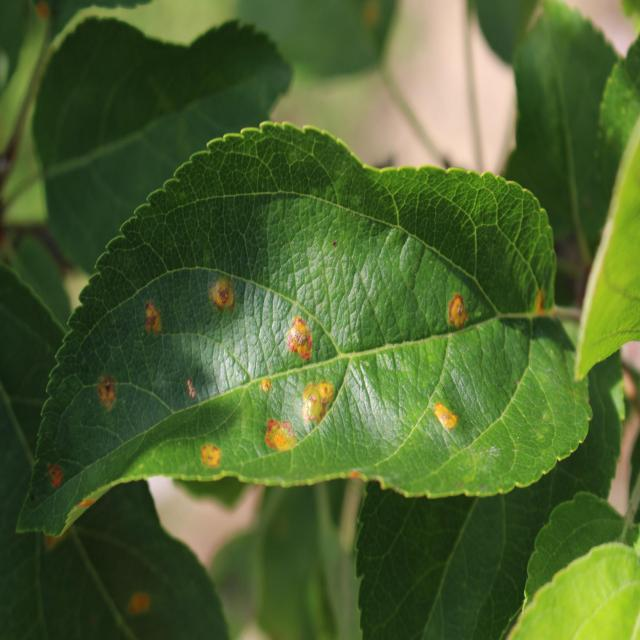Rust: (203, 258, 241, 336), (303, 376, 335, 462), (126, 291, 173, 347), (429, 365, 460, 445), (258, 402, 301, 458), (442, 269, 472, 346), (282, 311, 318, 371), (190, 440, 233, 480), (90, 371, 124, 418), (178, 356, 199, 417), (62, 488, 98, 520), (47, 445, 67, 498)
